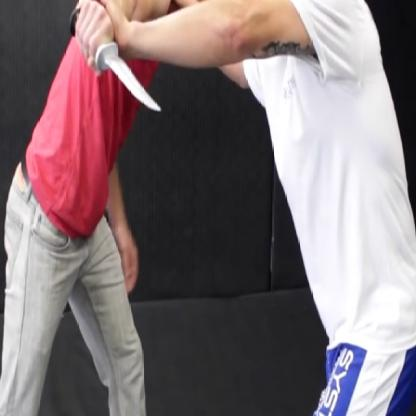knife: (66, 0, 166, 127)
